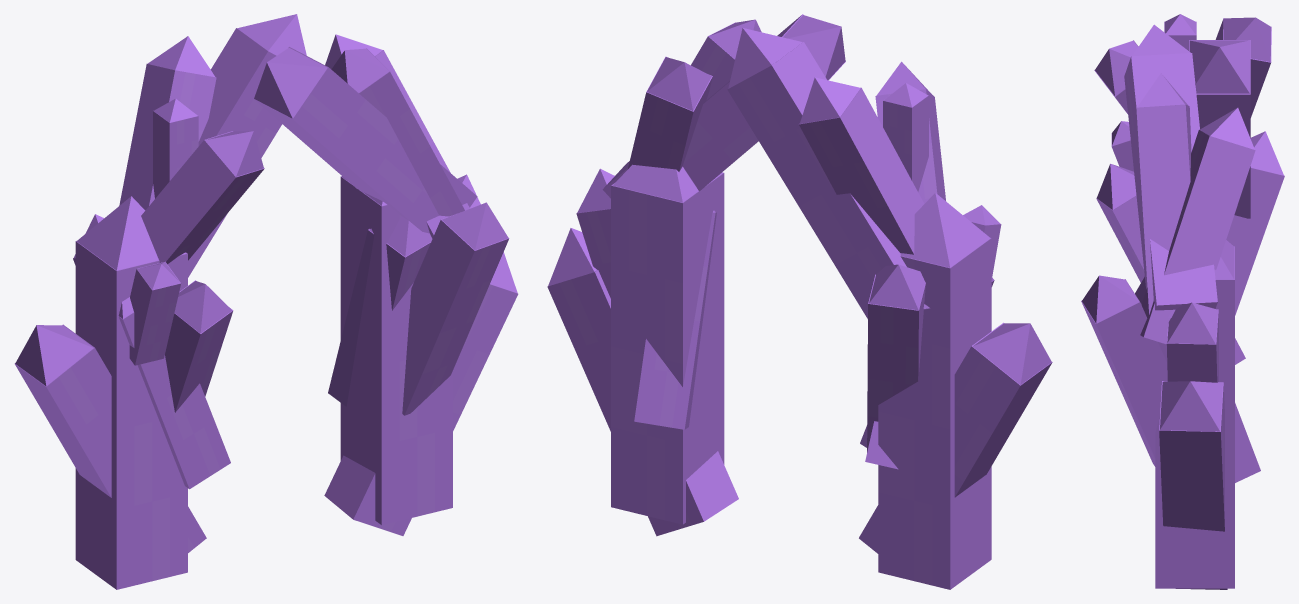
Rendered from crystal_portal.fbx.
The picture shows the model from 3 angles, left to right: view 1: azimuth 30°, elevation 25°; view 2: azimuth 150°, elevation 25°; view 3: azimuth 270°, elevation 25°; orthographic projection. The views are drawn at different scales.
Parts seen in each view (by area): view 1: Cube.032; view 2: Cube.032; view 3: Cube.032.
Boxes of the visible parts, box(x1,y1,x2,y2) form: Cube.032: box(14, 14, 518, 589); Cube.032: box(547, 14, 1052, 589); Cube.032: box(1081, 14, 1284, 589).
Bounding box in the file's own units: 2924 × 3083 × 1129.
